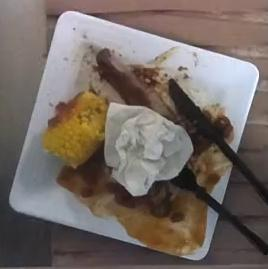corn: (43, 91, 108, 168)
ribs: (96, 48, 175, 119)
